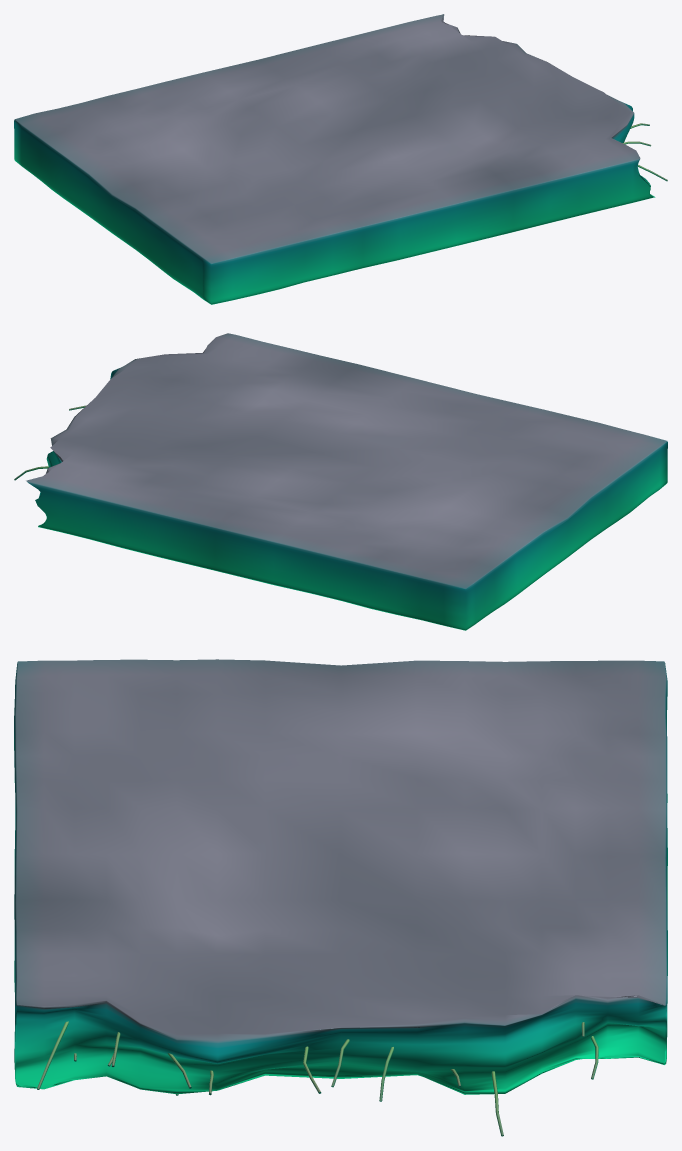
File: ruin_slab.glb
The picture shows the model from 3 angles, top to bottom: view 1: azimuth 30°, elevation 25°; view 2: azimuth 150°, elevation 25°; view 3: azimuth 270°, elevation 25°; orthographic projection. The views are drawn at different scales.
Visible parts, largest first — view 1: ruin_slab; view 2: ruin_slab; view 3: ruin_slab.
Part boxes in pixels (box(x1,y1,x2,y2)): ruin_slab: box(14, 14, 667, 304); ruin_slab: box(14, 333, 667, 630); ruin_slab: box(14, 659, 667, 1136).
Size of what is drawn, in the model's own units: 4.03 by 0.4105 by 2.81.
